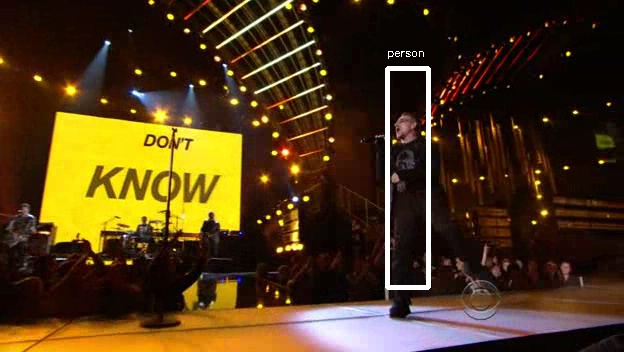person: (378, 112, 445, 223), (375, 112, 442, 223), (381, 112, 448, 223), (378, 109, 445, 220), (378, 115, 445, 226)
target_negative: (227, 130, 364, 284), (40, 284, 466, 310), (206, 316, 473, 339), (265, 182, 543, 198), (561, 119, 588, 280), (28, 116, 30, 304)
